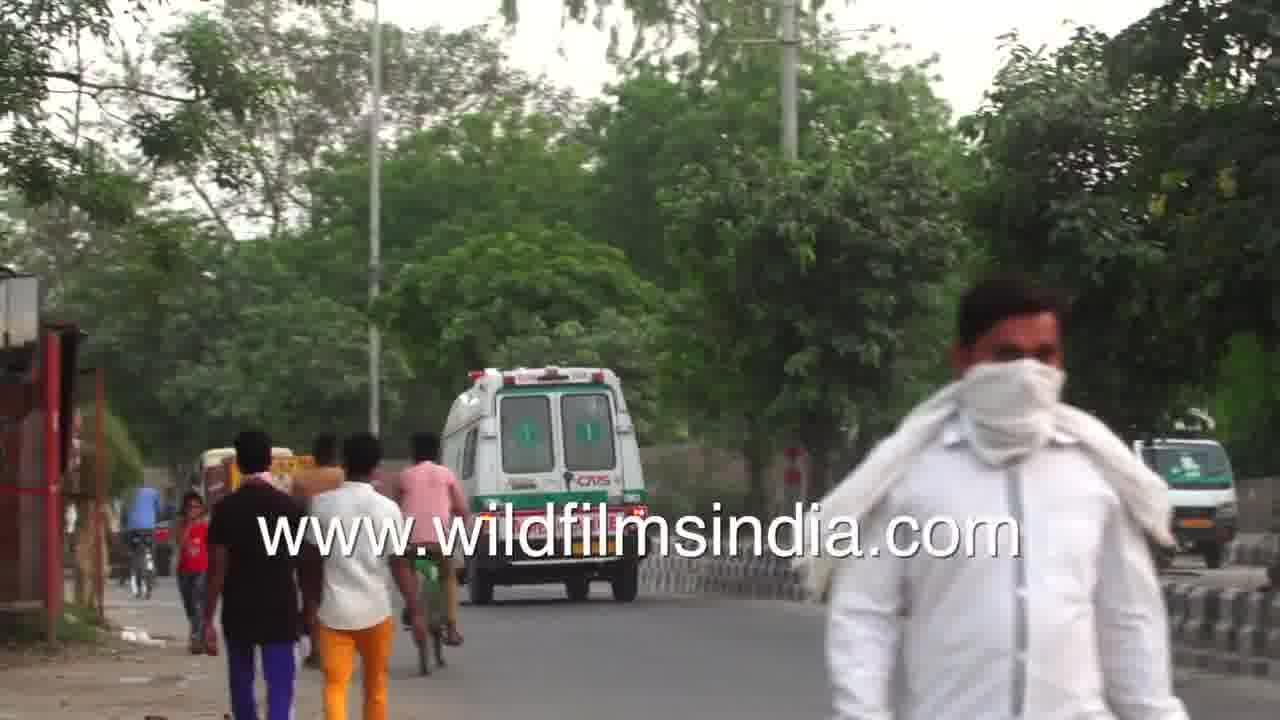AMBULANCE: (456, 371, 667, 493)
